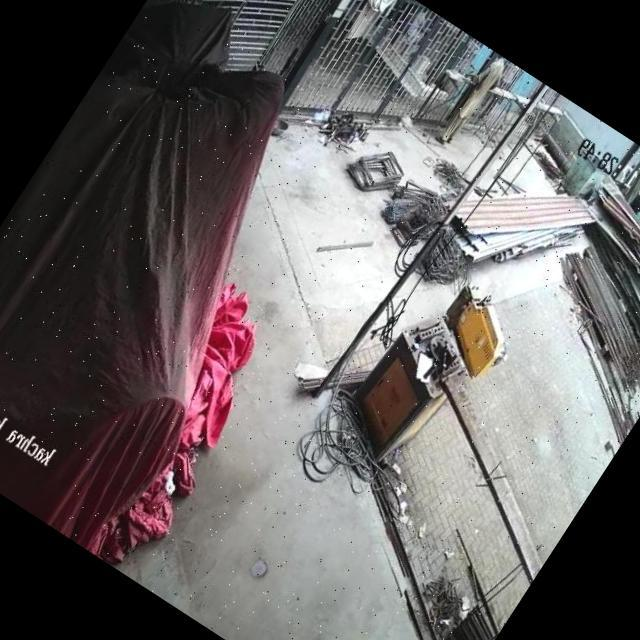person: (434, 50, 514, 154)
